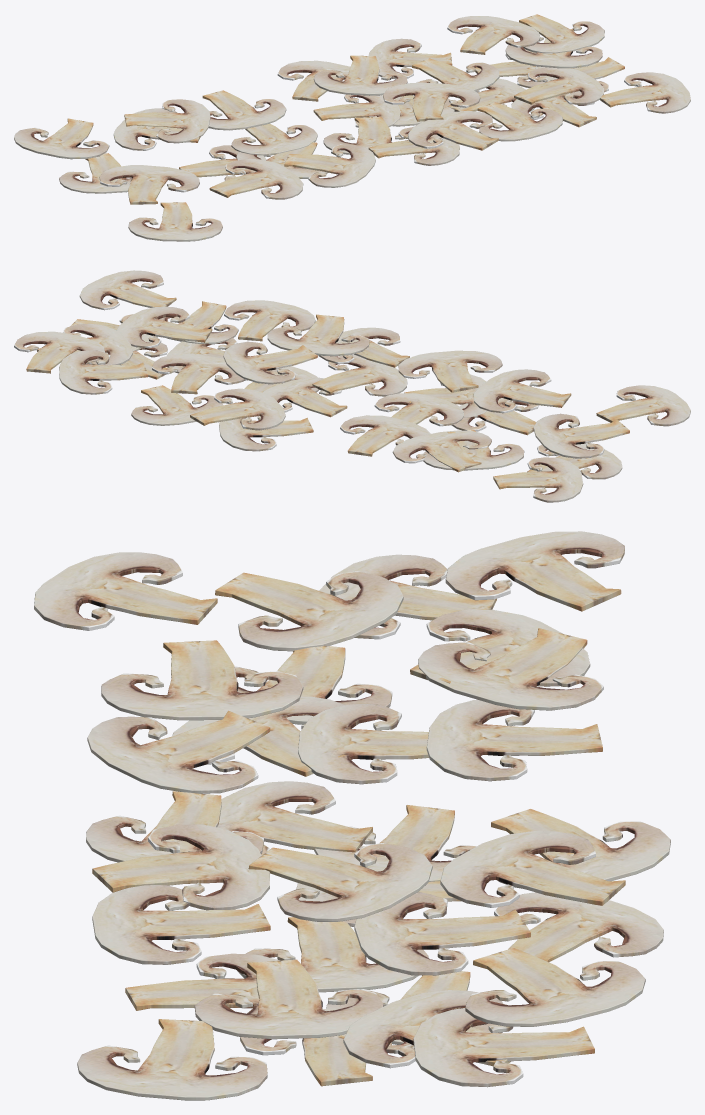
File: SM_PizzaTopping_Mushroom_Grouped.fbx
The picture shows the model from 3 angles, top to bottom: view 1: azimuth 30°, elevation 25°; view 2: azimuth 150°, elevation 25°; view 3: azimuth 270°, elevation 25°; orthographic projection. The views are drawn at different scales.
Visible parts, largest first — view 1: SM_PizzaTopping_Mushroom_Grouped; view 2: SM_PizzaTopping_Mushroom_Grouped; view 3: SM_PizzaTopping_Mushroom_Grouped.
Boxes of the visible parts, x1,y1,x2,y2 form: SM_PizzaTopping_Mushroom_Grouped: (14, 14, 690, 241); SM_PizzaTopping_Mushroom_Grouped: (14, 270, 690, 502); SM_PizzaTopping_Mushroom_Grouped: (34, 531, 670, 1100).
Bounding box in the file's own units: 19.04 × 0.4579 × 9.27.
